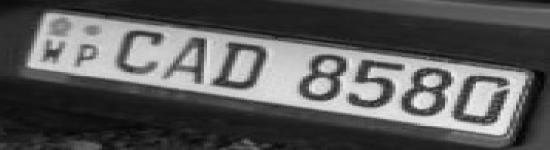0: (455, 72, 516, 128)
5: (349, 56, 405, 113)
8: (399, 64, 455, 118), (292, 51, 349, 104)
A: (168, 34, 218, 87)
C: (107, 28, 167, 74)
D: (219, 37, 274, 92)
P: (73, 41, 104, 69)
W: (39, 37, 72, 65)
